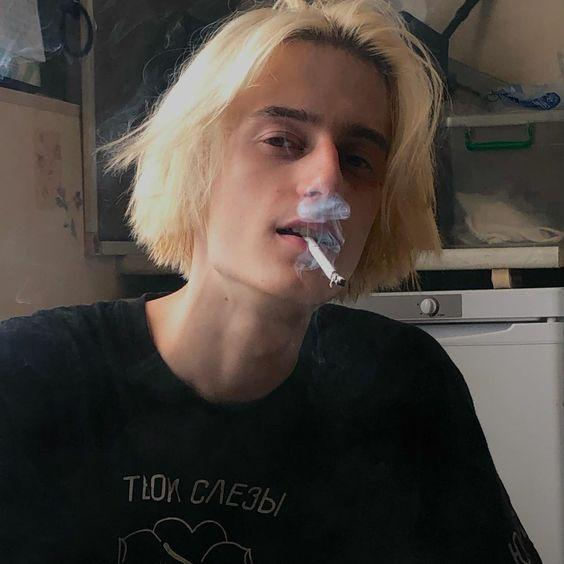cigarette: (299, 235, 346, 288)
